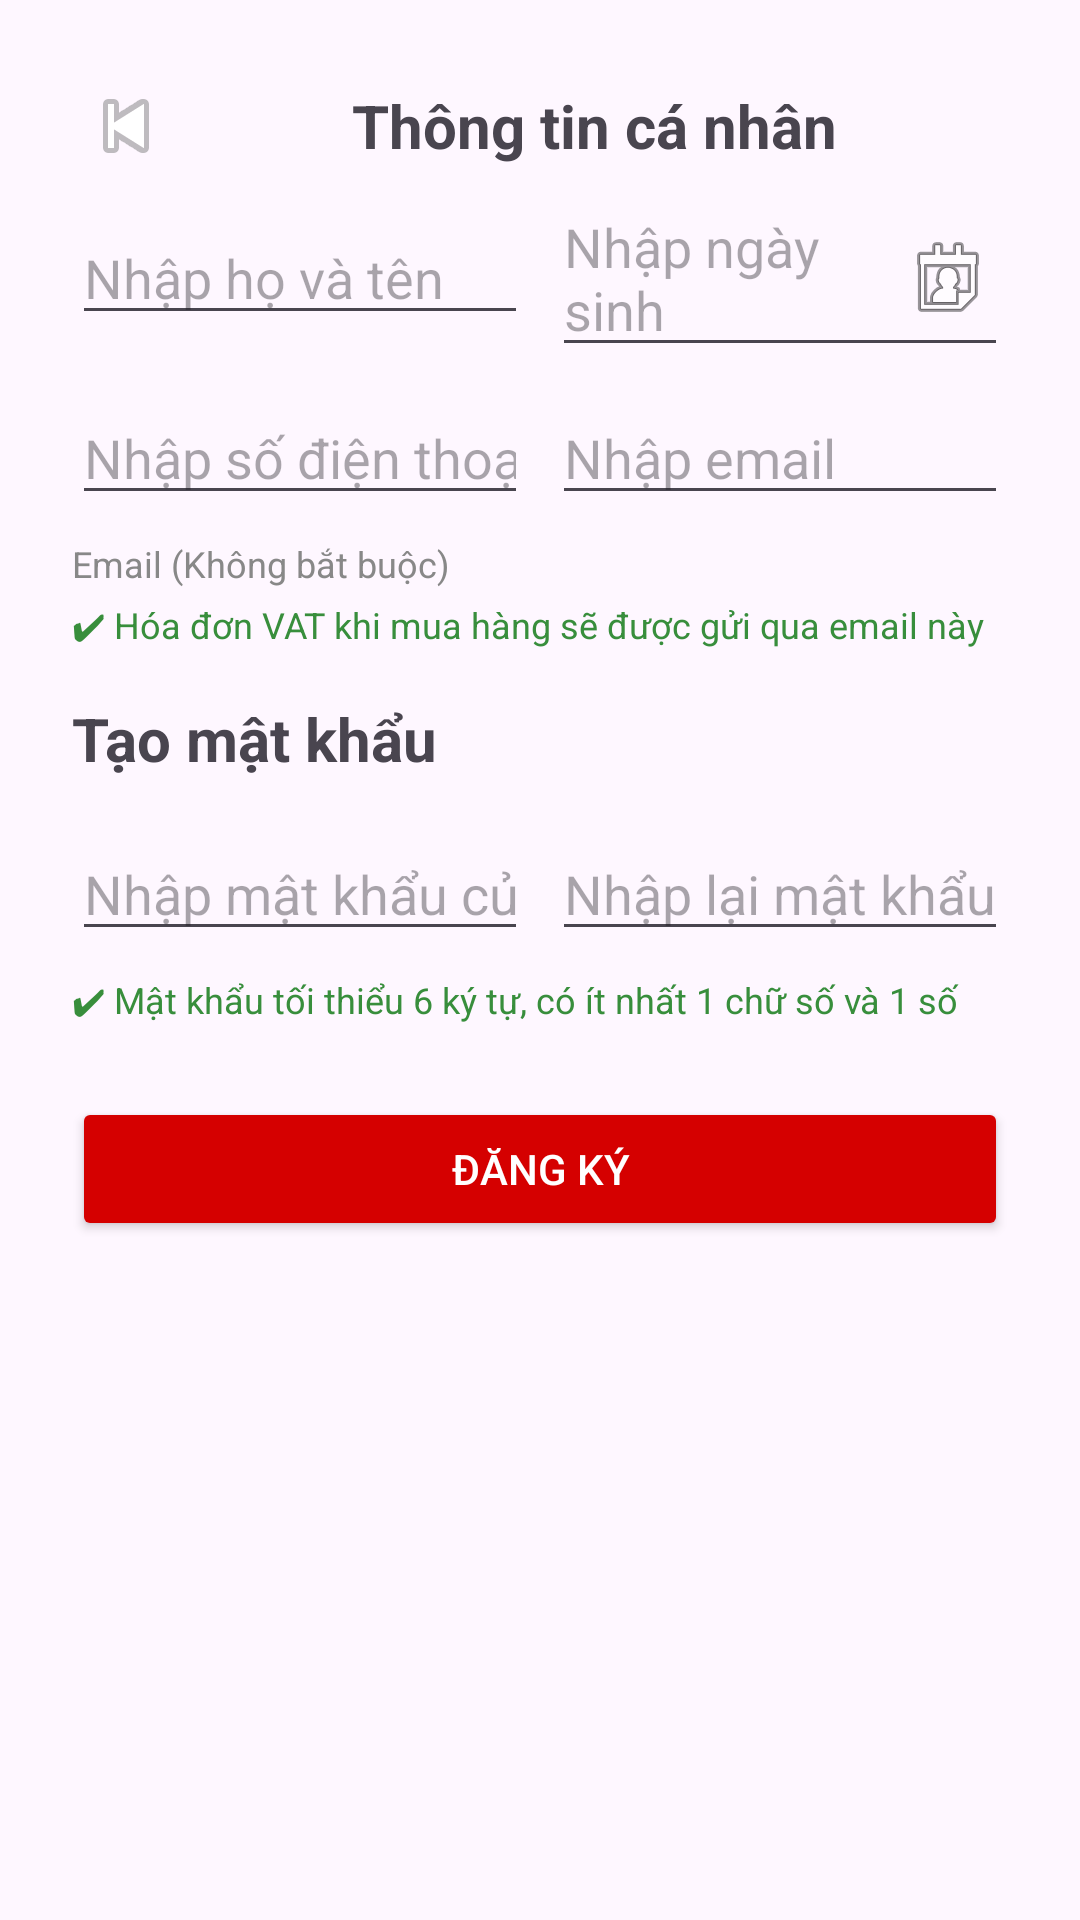

Named icons in this screenshot (1080 × 1920) and their centers, (x,y):
Quay về: (126,126)
